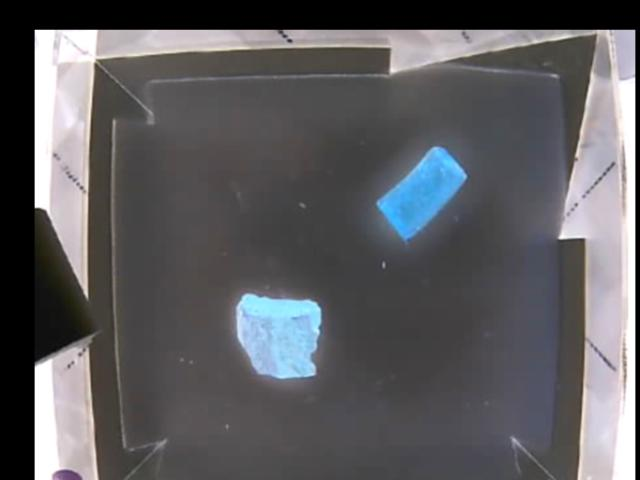Brisk: (233, 292, 321, 377)
Carrot: (375, 145, 466, 241)
